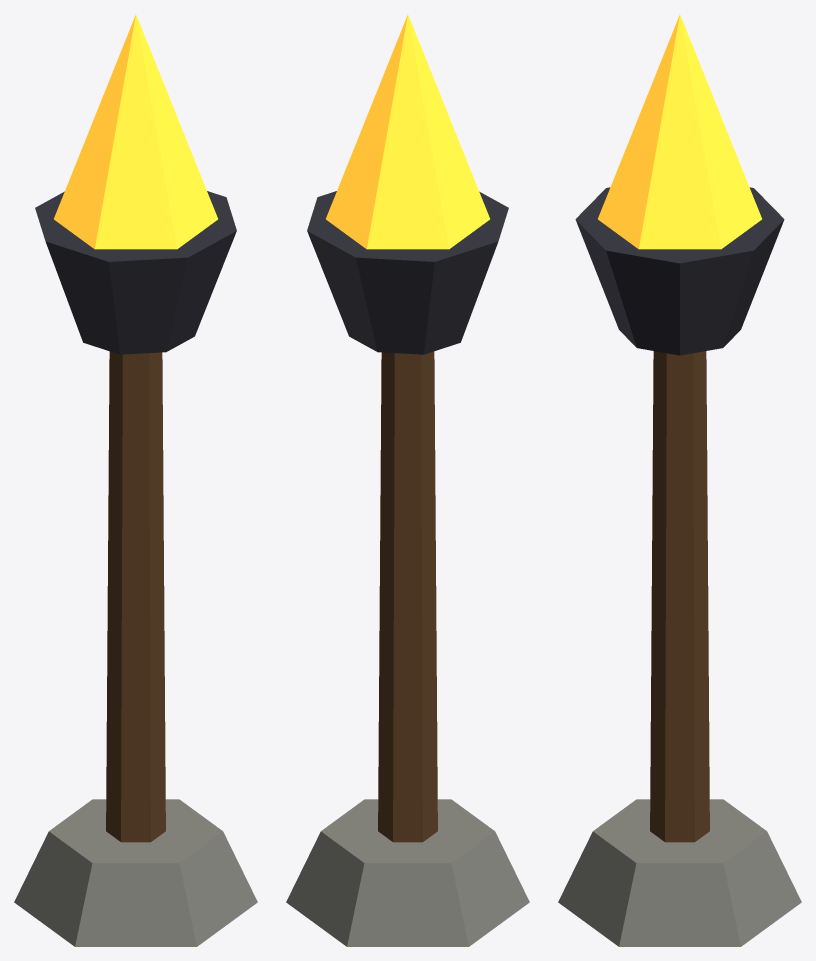
File: night_torch_stand.glb
3 renders of one model, left to right at view 1: azimuth 30°, elevation 25°; view 2: azimuth 150°, elevation 25°; view 3: azimuth 270°, elevation 25°, orthographic.
Parts seen in each view (by area): view 1: night_torch_stand; view 2: night_torch_stand; view 3: night_torch_stand.
Boxes of the visible parts, x1,y1,x2,y2 form: night_torch_stand: (14,14,257,946); night_torch_stand: (286,14,529,946); night_torch_stand: (558,14,801,946).
Size of the model in its own units: 0.485 by 2.25 by 0.56.
